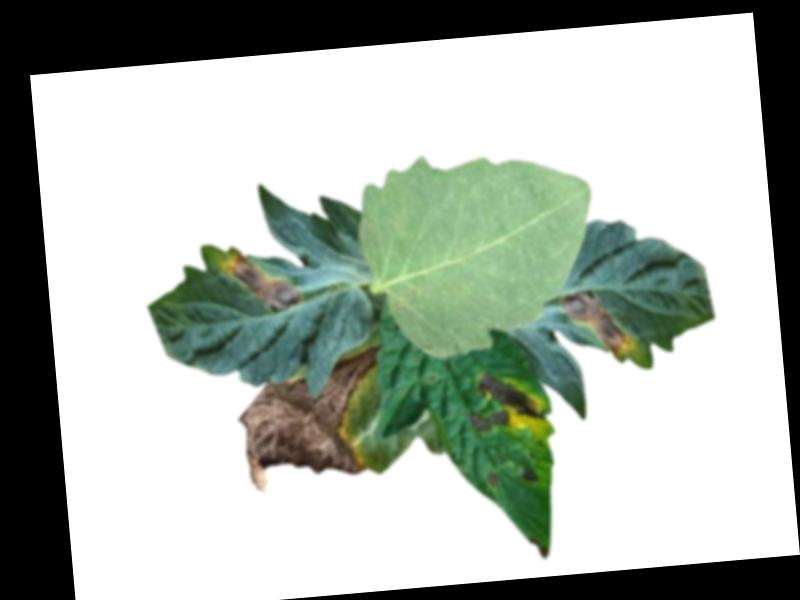Early_blight: (233, 346, 393, 495), (218, 242, 301, 316), (562, 286, 634, 361), (466, 366, 545, 433), (526, 530, 549, 560), (518, 461, 540, 485), (485, 470, 499, 486)
healthy: (348, 138, 605, 364)
